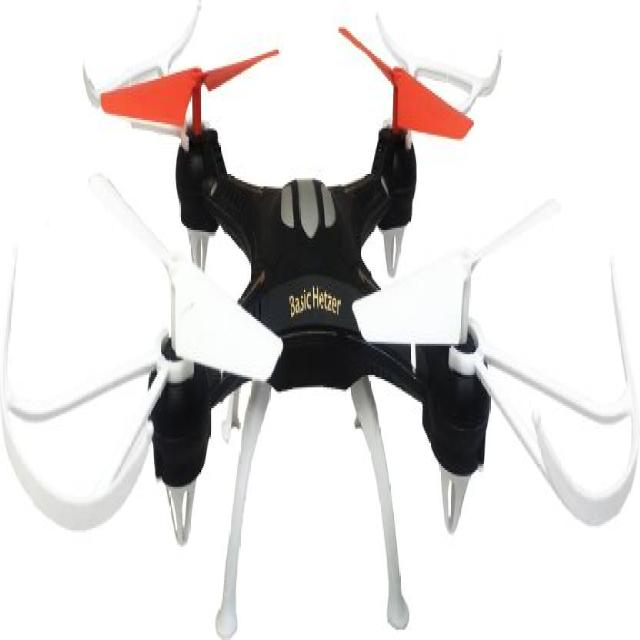drone: (14, 16, 640, 627)
